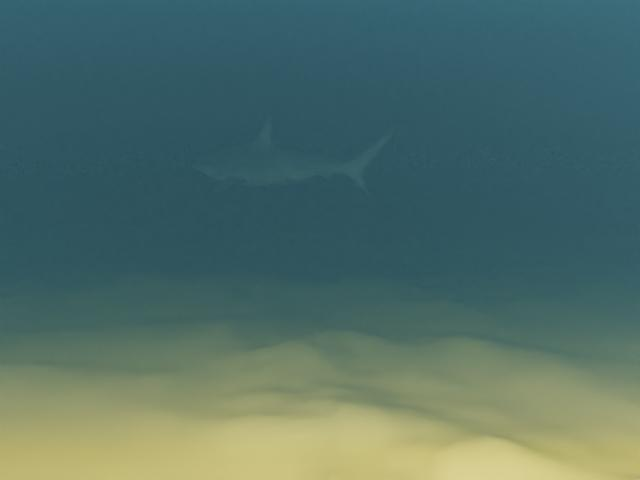Carribean Shark.001: (192, 116, 400, 196)
